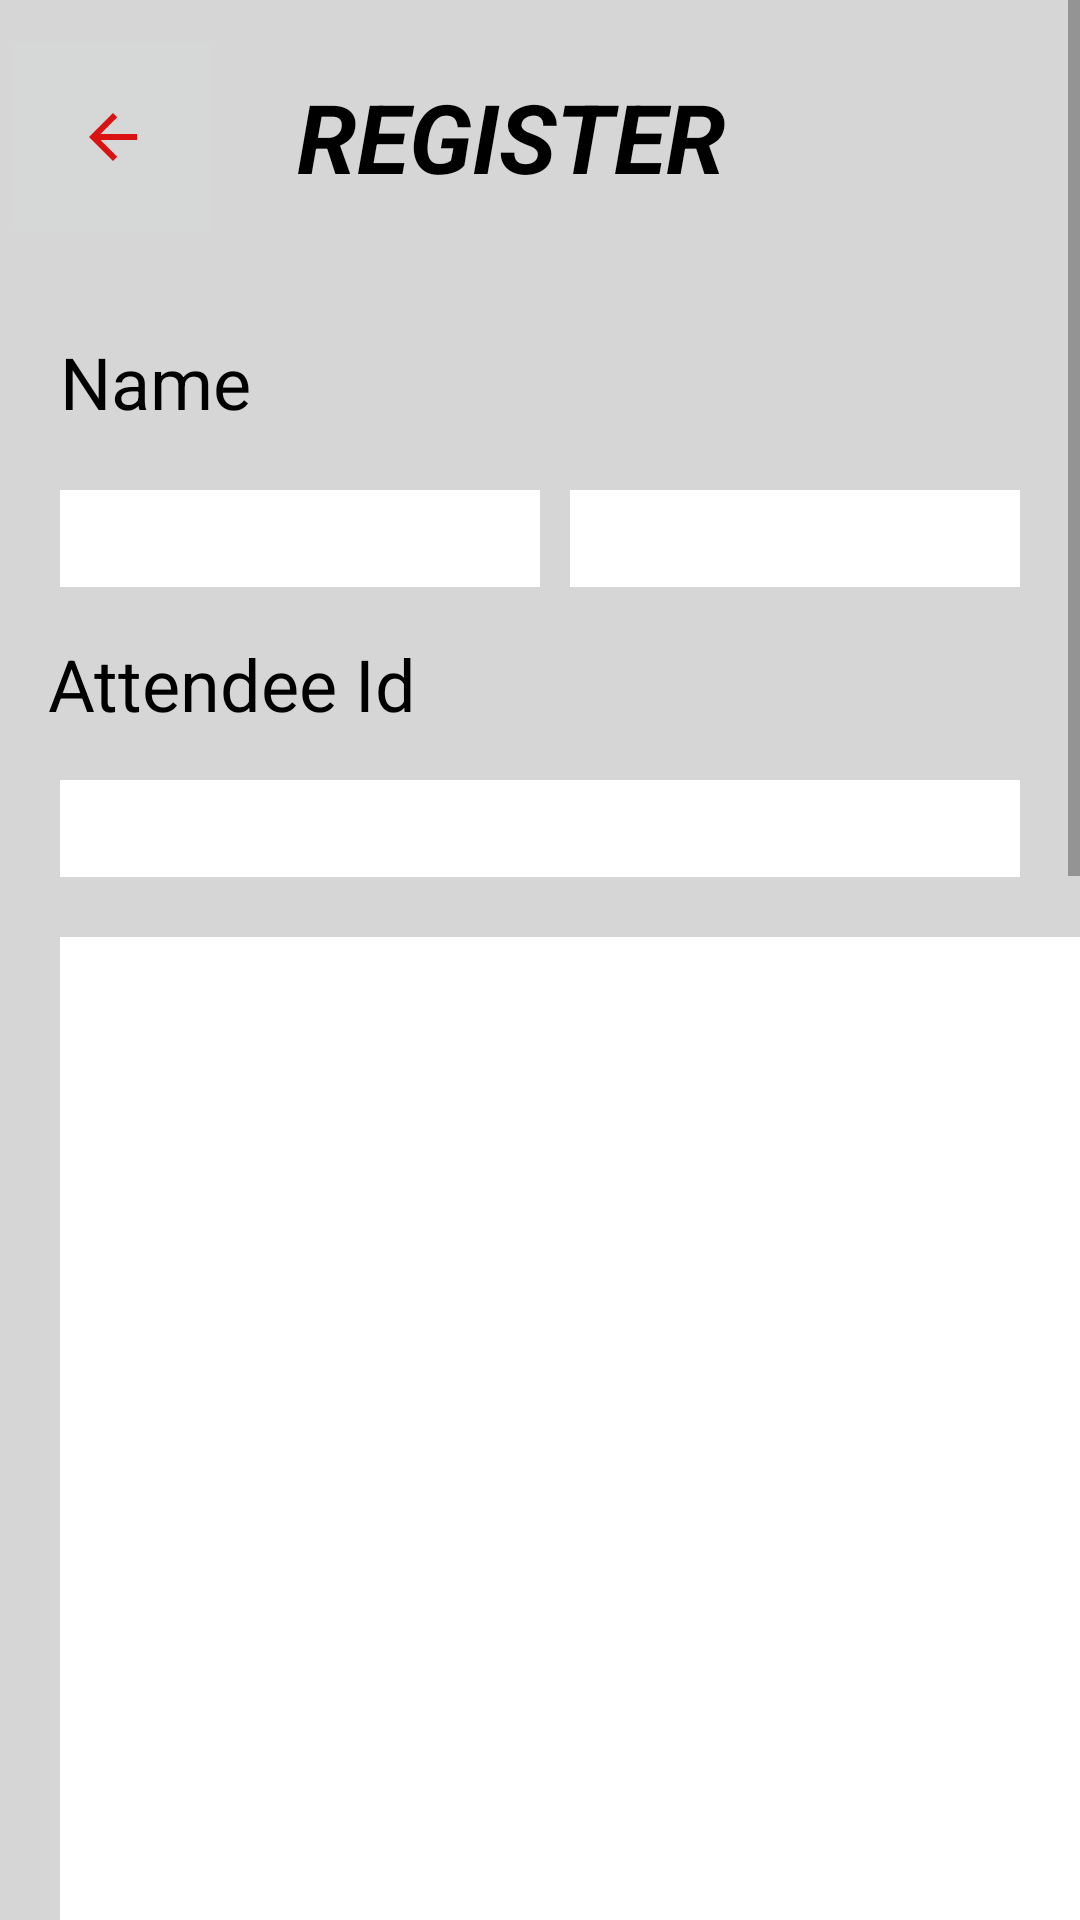

Screen size 1080*1920. Icon name, then its center in pixels as point (x, y):
arrow back: point (113, 137)
